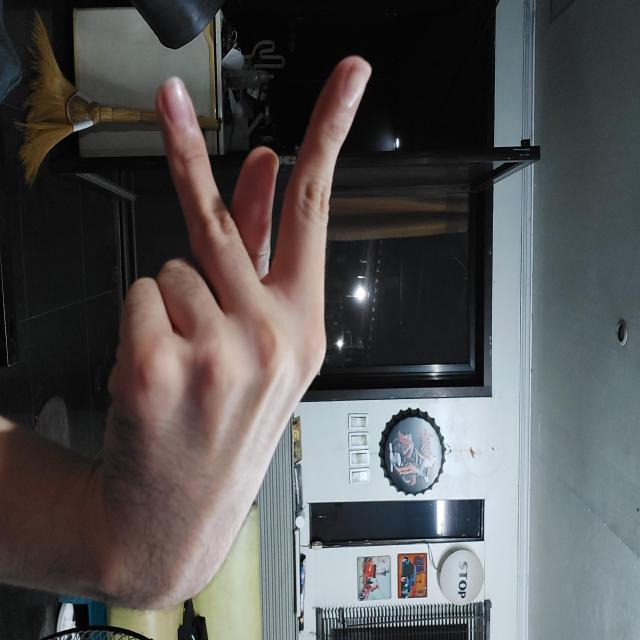K: (53, 267, 598, 537)
